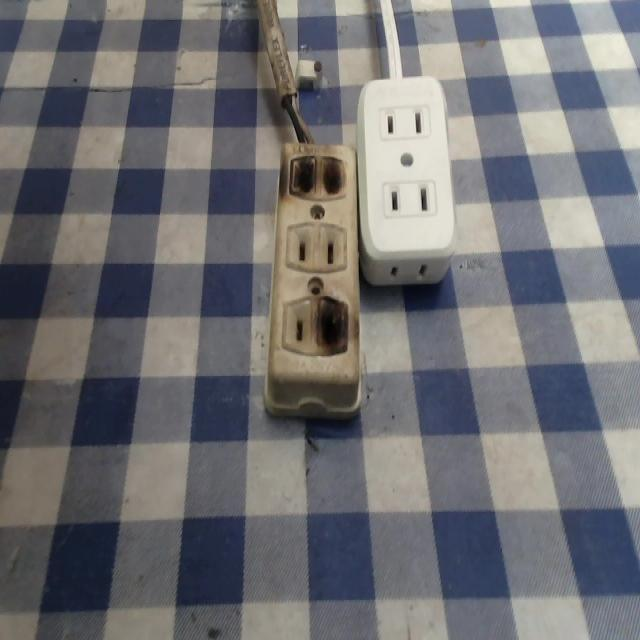-: (284, 150, 347, 202), (314, 296, 350, 356)
